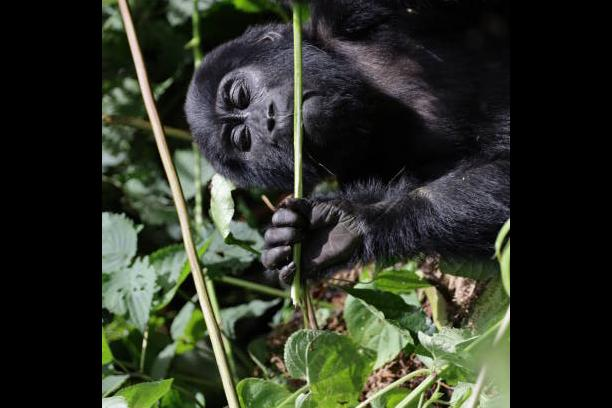goriile_montagne: (180, 0, 505, 305)
